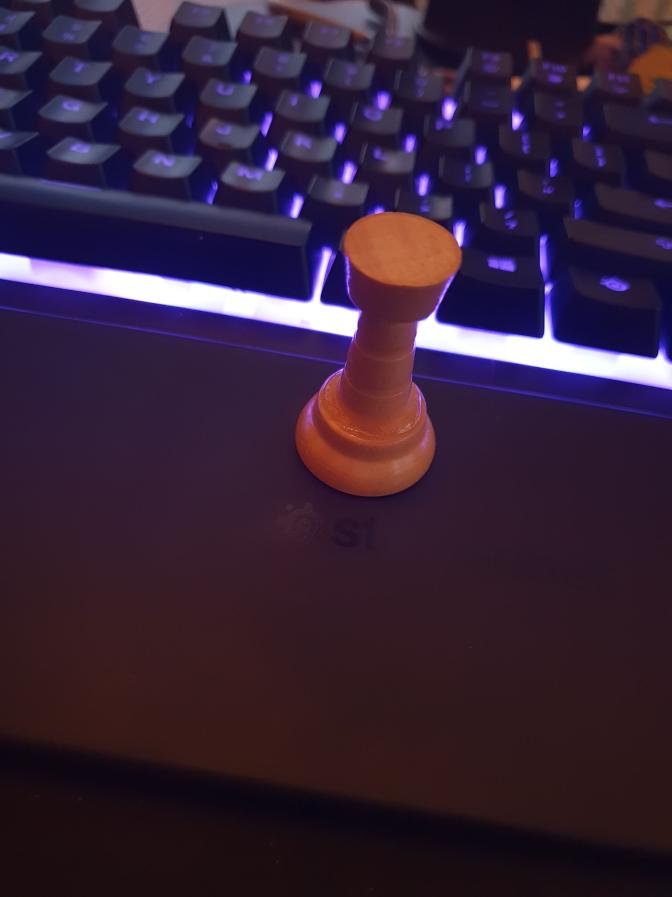wrook: (292, 212, 464, 500)
